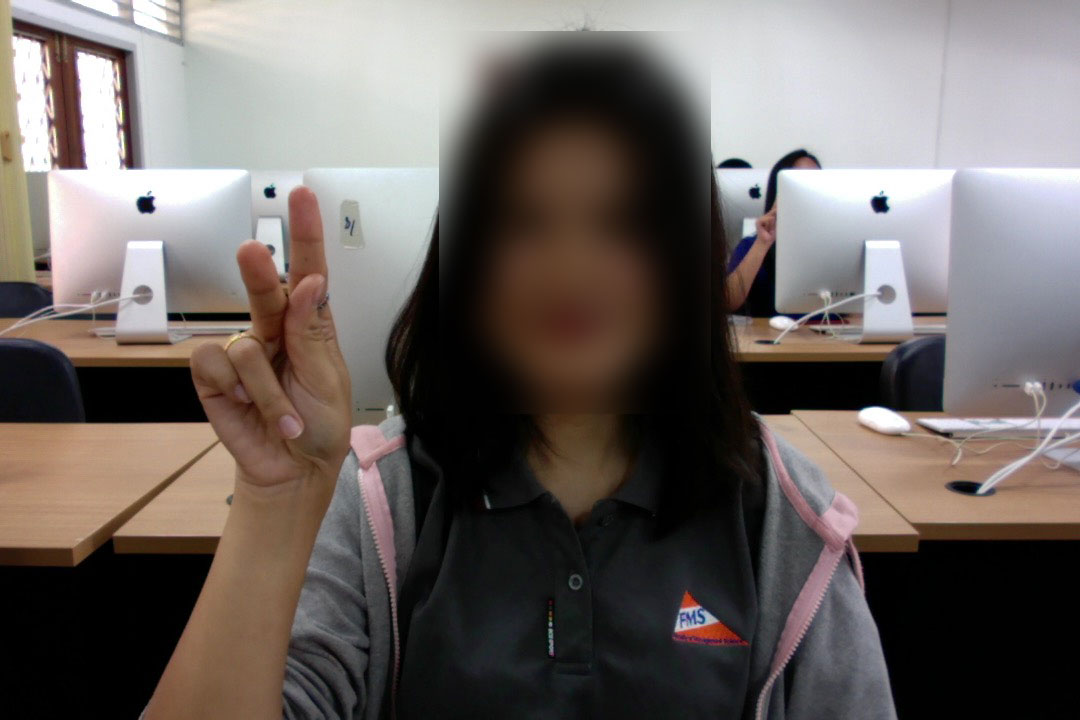ko: (186, 175, 360, 508)
